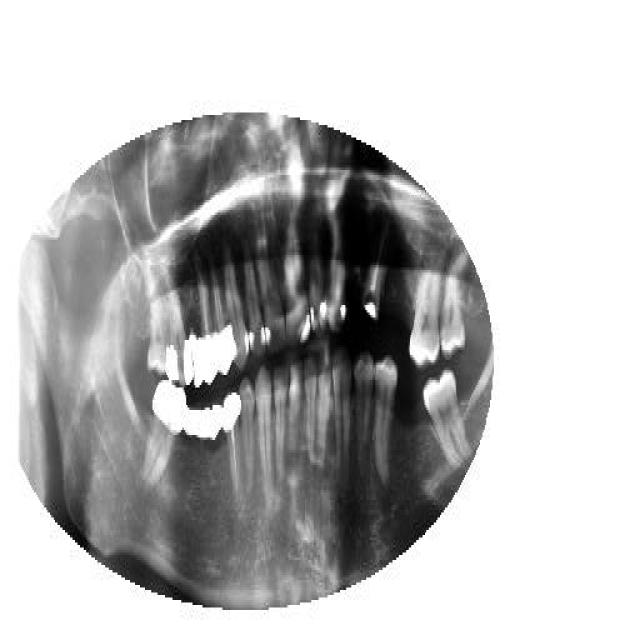Cavity: (362, 212, 392, 328)
Fillings: (158, 268, 194, 388), (141, 382, 185, 480), (209, 255, 236, 373), (194, 258, 218, 390), (182, 402, 206, 448), (208, 397, 222, 445)
Implant: (224, 388, 242, 502)
